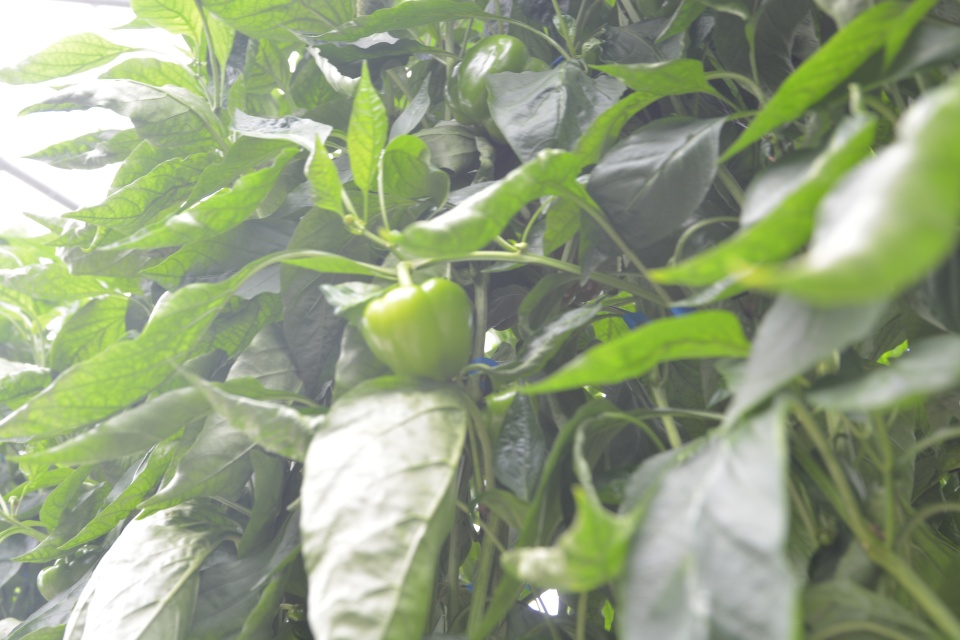fruit: (441, 31, 554, 147), (358, 275, 476, 383), (35, 540, 106, 603)
